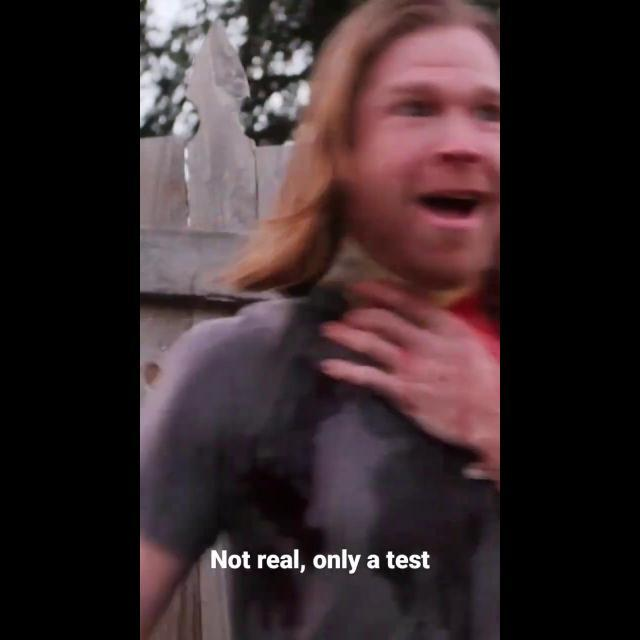blood: (448, 292, 500, 364)
